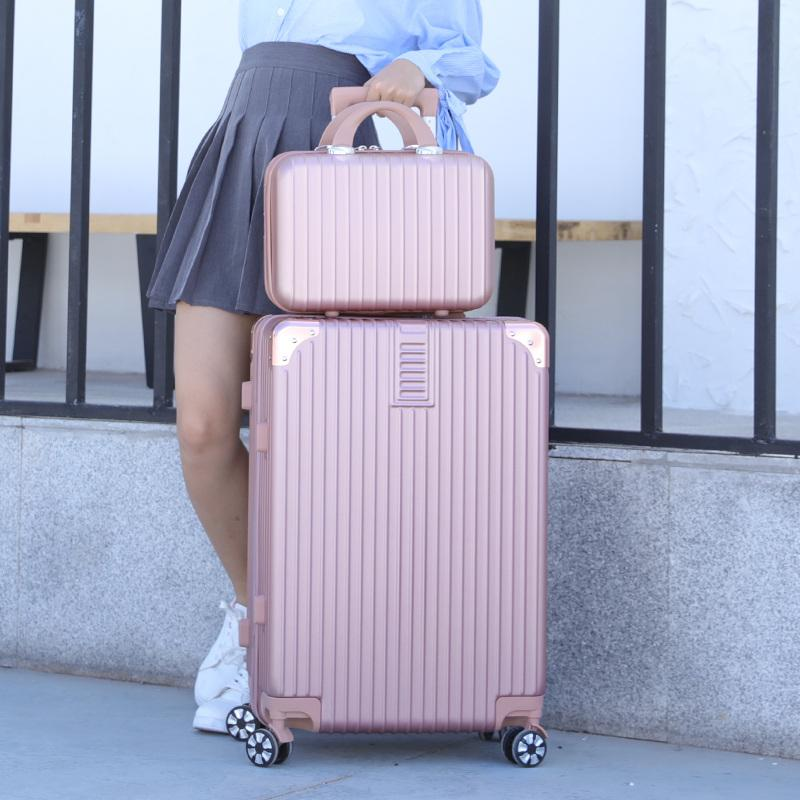box: (248, 314, 550, 733)
wheel: (500, 725, 547, 768), (246, 728, 294, 768), (225, 702, 260, 742)
